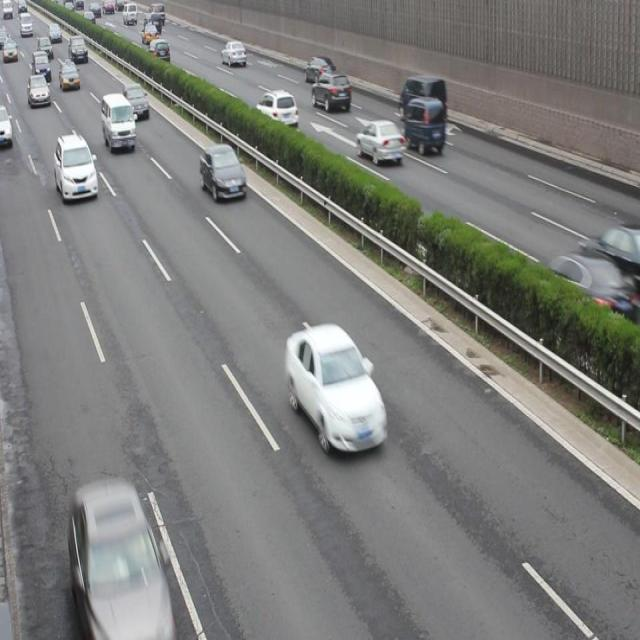car: (70, 482, 172, 640), (285, 320, 388, 456), (539, 248, 640, 334), (576, 227, 640, 293), (198, 143, 248, 203), (54, 134, 98, 201), (401, 94, 444, 158), (356, 120, 404, 164), (253, 91, 298, 127), (310, 72, 350, 111), (121, 84, 151, 119), (304, 56, 336, 83), (27, 75, 51, 109), (31, 49, 52, 80), (145, 39, 170, 64), (221, 42, 246, 66), (68, 37, 90, 64), (60, 61, 80, 90), (1, 104, 14, 145), (0, 38, 18, 62), (141, 21, 158, 44), (40, 37, 54, 59)
truck: (398, 74, 445, 119), (102, 92, 136, 150)
